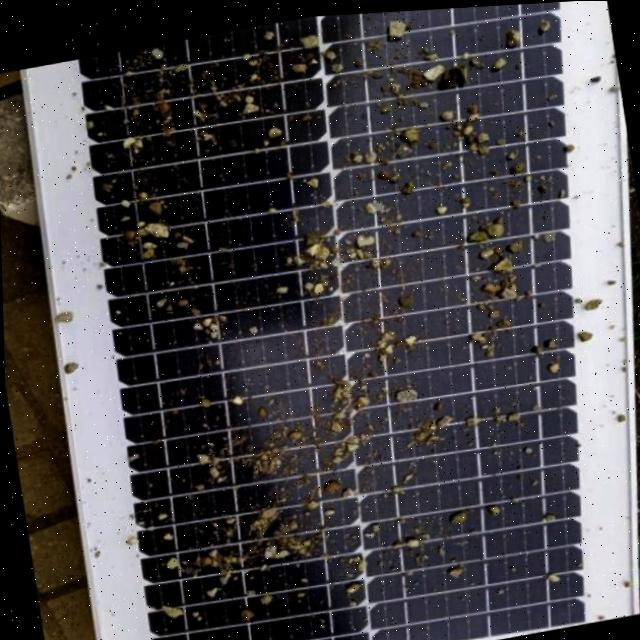Surface Contaminant: (41, 1, 620, 640)
